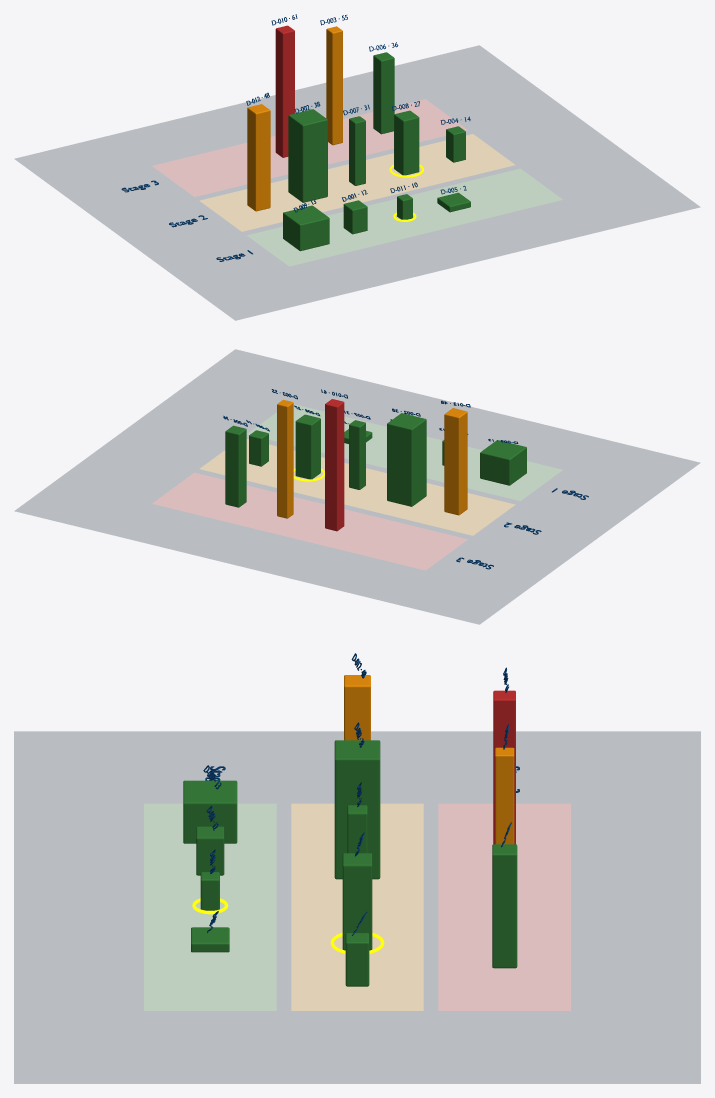
The model's file is portefeuille_3d.glb.
3 views of the same model, one above another, from view 1: azimuth 30°, elevation 25°; view 2: azimuth 150°, elevation 25°; view 3: azimuth 270°, elevation 25° (orthographic). The views are drawn at different scales.
Visible parts, largest first — view 1: Plane, Plane.001, Plane.002, Plane.003, D-002, D-012, D-010, D-003, D-009, D-006, D-008, D-007 (+2 smaller); view 2: Plane, Plane.003, Plane.002, Plane.001, D-002, D-010, D-012, D-003, D-009, D-006, D-008, D-007 (+1 smaller); view 3: Plane, Plane.003, Plane.001, Plane.002, D-002, D-006, D-009, D-008, D-003, D-012, D-010, D-004 (+4 smaller).
Part boxes in pixels (x1,y1,x2,y2): Plane: (14,45,700,320); Plane.001: (247,168,562,266); Plane.002: (199,134,515,231); Plane.003: (152,99,467,196); D-002: (288,109,327,202); D-012: (247,104,270,211); D-010: (275,25,294,157); D-003: (326,26,342,145); D-009: (283,205,329,251); D-006: (373,52,394,134); D-008: (394,110,419,175); D-007: (349,116,365,185); Plane: (14,349,700,624); Plane.003: (152,472,467,570); Plane.002: (200,439,515,535); Plane.001: (247,404,562,500); D-002: (387,413,426,506); D-010: (325,399,344,531); D-012: (444,408,467,515); D-003: (277,400,293,518); D-009: (480,440,526,485); D-006: (225,425,246,507); D-008: (295,414,320,479); D-007: (349,420,365,489); Plane: (14,731,700,1083); Plane.003: (438,803,570,1010); Plane.001: (144,803,276,1010); Plane.002: (291,803,423,1010); D-002: (334,740,380,879); D-006: (492,844,517,968); D-009: (183,780,237,843); D-008: (342,853,372,950); D-003: (495,747,514,844); D-012: (344,675,370,740); D-010: (493,690,515,844); D-004: (345,933,369,986).
Size of the model in its own units: 34 by 9.52 by 28.
